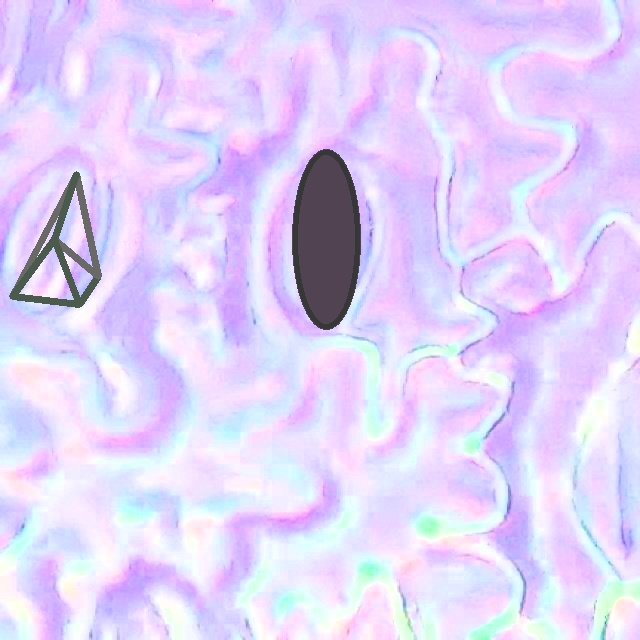close: (9, 172, 100, 306)
open: (292, 148, 359, 329)
